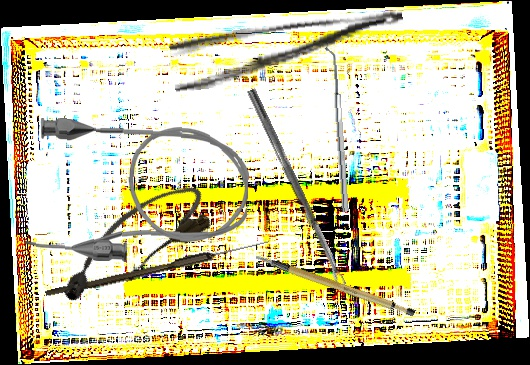Cannula: (24, 117, 251, 266), (44, 173, 220, 313)
Dressing Forceps: (168, 6, 409, 94)
Scalpel Handle: (254, 229, 418, 338)
Spatula Surgical: (324, 46, 349, 213)
Surgical Spoon: (245, 88, 347, 288), (45, 235, 270, 302)
